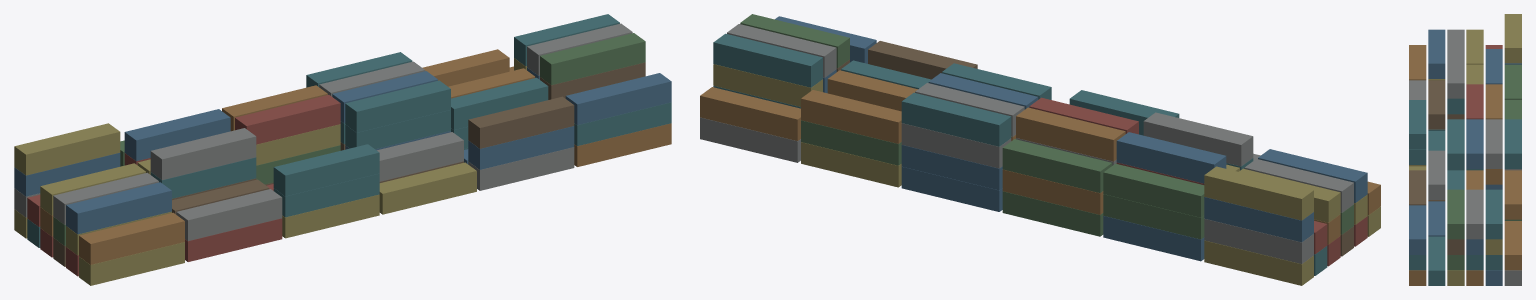
Rendered from container_stack_3.glb.
The picture shows the model from 3 angles, left to right: view 1: azimuth 30°, elevation 25°; view 2: azimuth 150°, elevation 25°; view 3: azimuth 270°, elevation 25°; orthographic projection. The views are drawn at different scales.
Visible parts, largest first — view 1: LOD0; view 2: LOD0; view 3: LOD0.
Boxes of the visible parts, left/top/right/bottom form: LOD0: left=14, top=14, right=671, bottom=285; LOD0: left=700, top=14, right=1380, bottom=285; LOD0: left=1409, top=14, right=1521, bottom=285.
Size of what is drawn, in the model's own units: 75.2 by 10.38 by 17.1.
